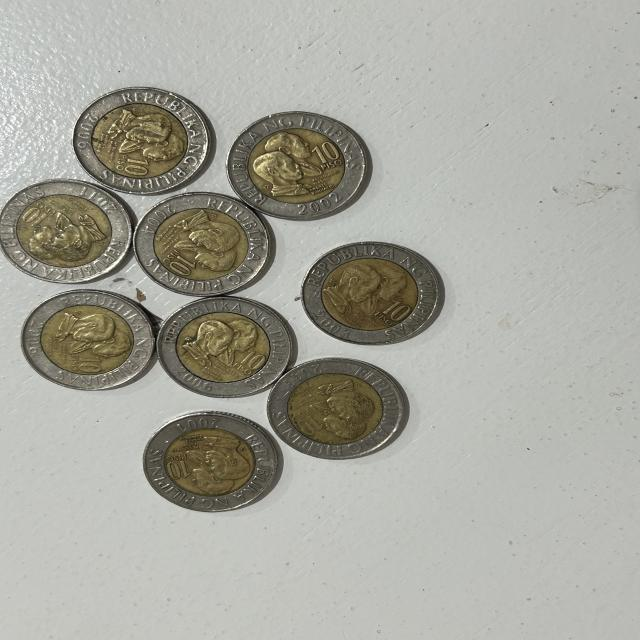10_Old_Front: (156, 245, 202, 277), (368, 297, 412, 329), (112, 152, 155, 183), (308, 140, 346, 174), (228, 347, 268, 378), (287, 407, 326, 437), (67, 349, 105, 378), (159, 450, 190, 484), (18, 203, 58, 228)
